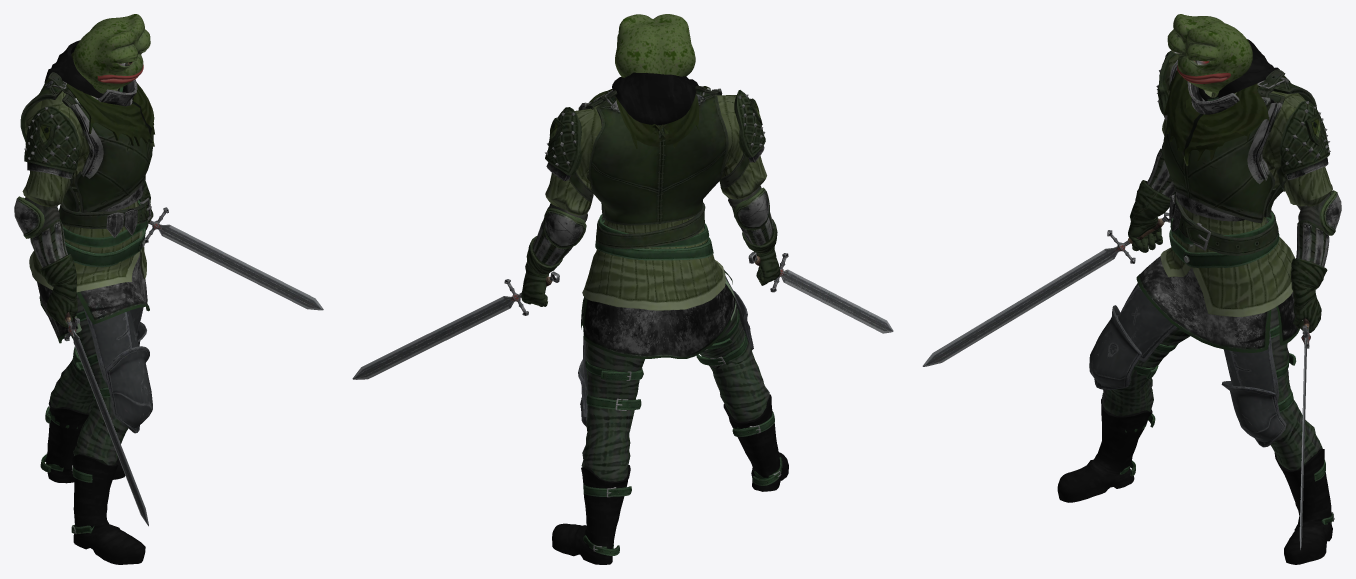
File: stormpepe.glb
3 views of the same model, side by side, from view 1: azimuth 30°, elevation 25°; view 2: azimuth 150°, elevation 25°; view 3: azimuth 270°, elevation 25° (orthographic). The views are drawn at different scales.
Visible parts, largest first — view 1: Body, Sword; view 2: Body, Sword; view 3: Body, Sword.
Boxes of the visible parts, <box> form: Body: <box>14,14,154,564</box>; Sword: <box>50,207,323,526</box>; Body: <box>521,14,788,564</box>; Sword: <box>352,252,893,379</box>; Body: <box>1057,14,1341,564</box>; Sword: <box>922,212,1310,549</box>.
Size of what is drawn, in the model's own units: 1.25 by 1.66 by 1.21.
Materials: 5 (5 with a texture image).
